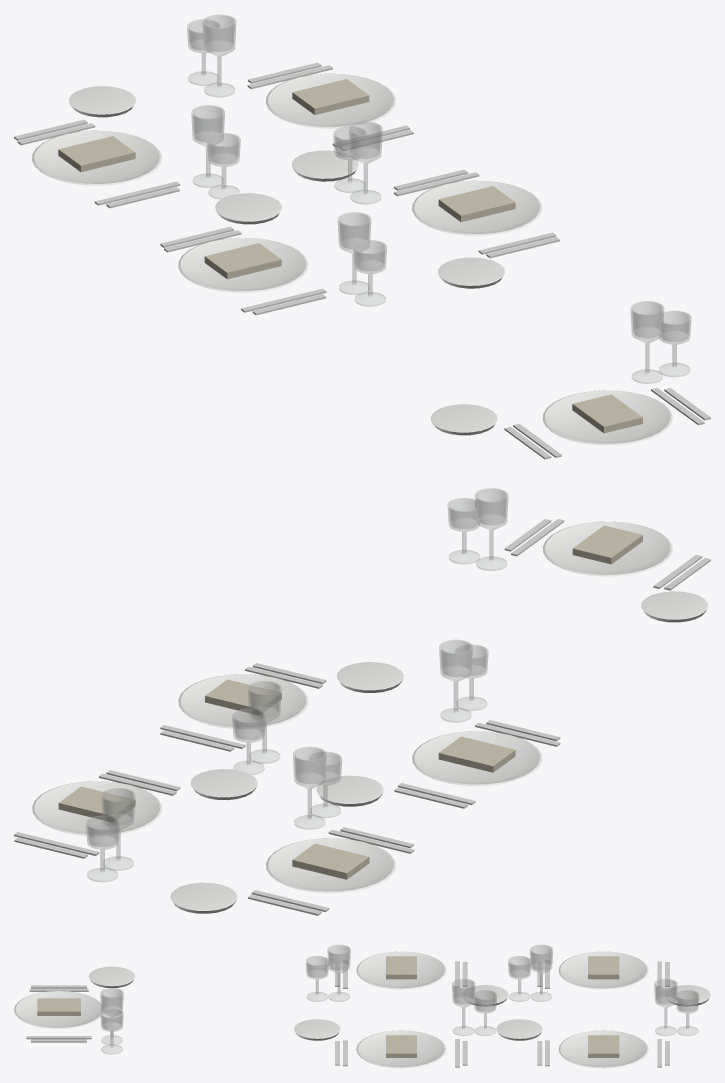
The model's file is room_dining__多一副餐具.gltf.
3 views of the same model, one above another, from view 1: azimuth 30°, elevation 25°; view 2: azimuth 150°, elevation 25°; view 3: azimuth 270°, elevation 25° (orthographic). The views are drawn at different scales.
Visible parts, largest first — view 1: 餐厅·多一副餐具·餐具; view 2: 餐厅·多一副餐具·餐具; view 3: 餐厅·多一副餐具·餐具.
Part boxes in pixels (x1,y1,x2,y2): 餐厅·多一副餐具·餐具: (14, 14, 710, 459); 餐厅·多一副餐具·餐具: (14, 488, 710, 915); 餐厅·多一副餐具·餐具: (14, 944, 710, 1068).
Bounding box in the file's own units: 0.89 × 0.17 × 2.24.
4 materials, 1 textured.
